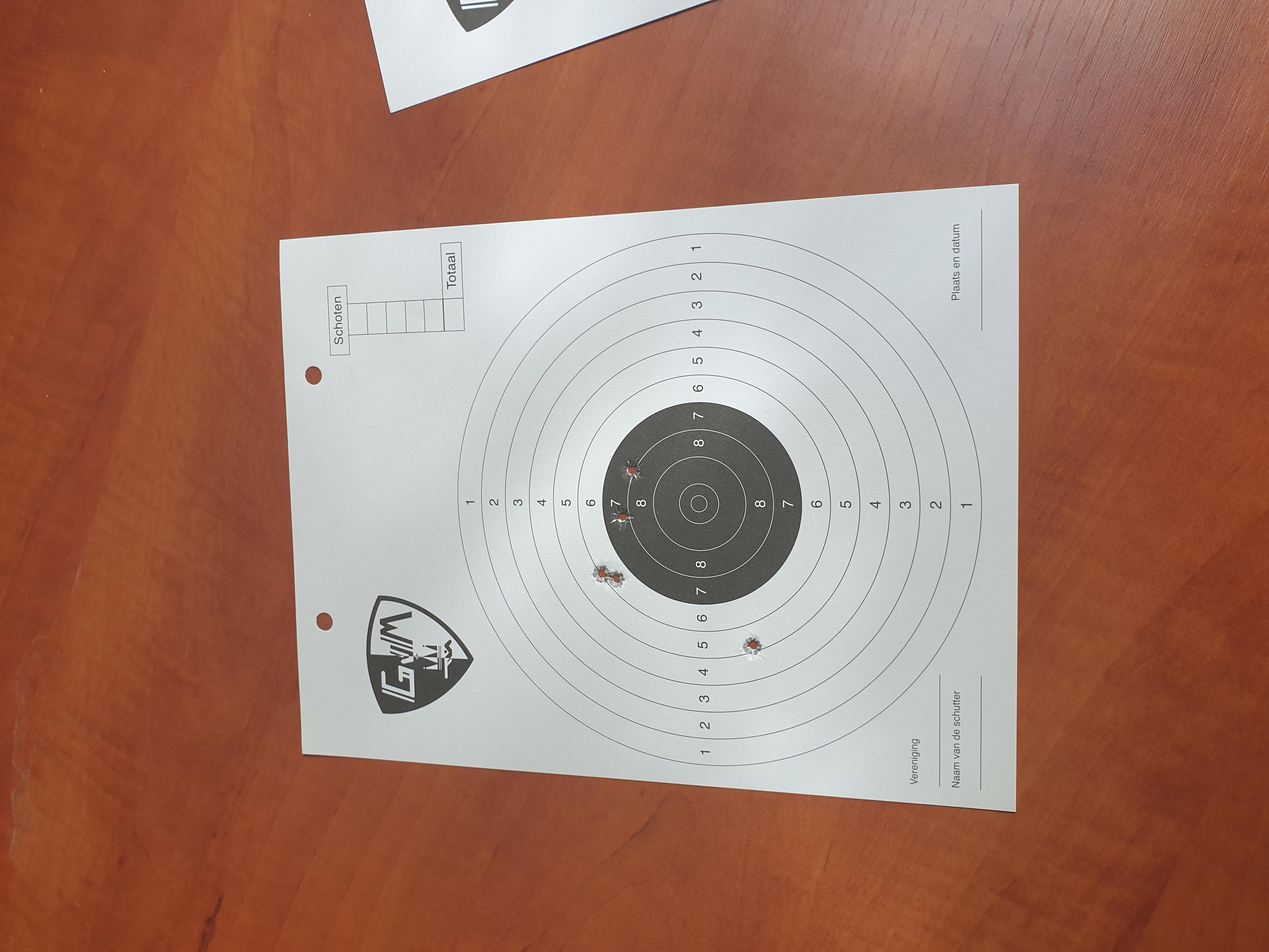hole: (504, 292, 530, 320), (635, 422, 660, 447), (625, 470, 647, 496), (660, 365, 678, 392), (643, 360, 661, 384)
